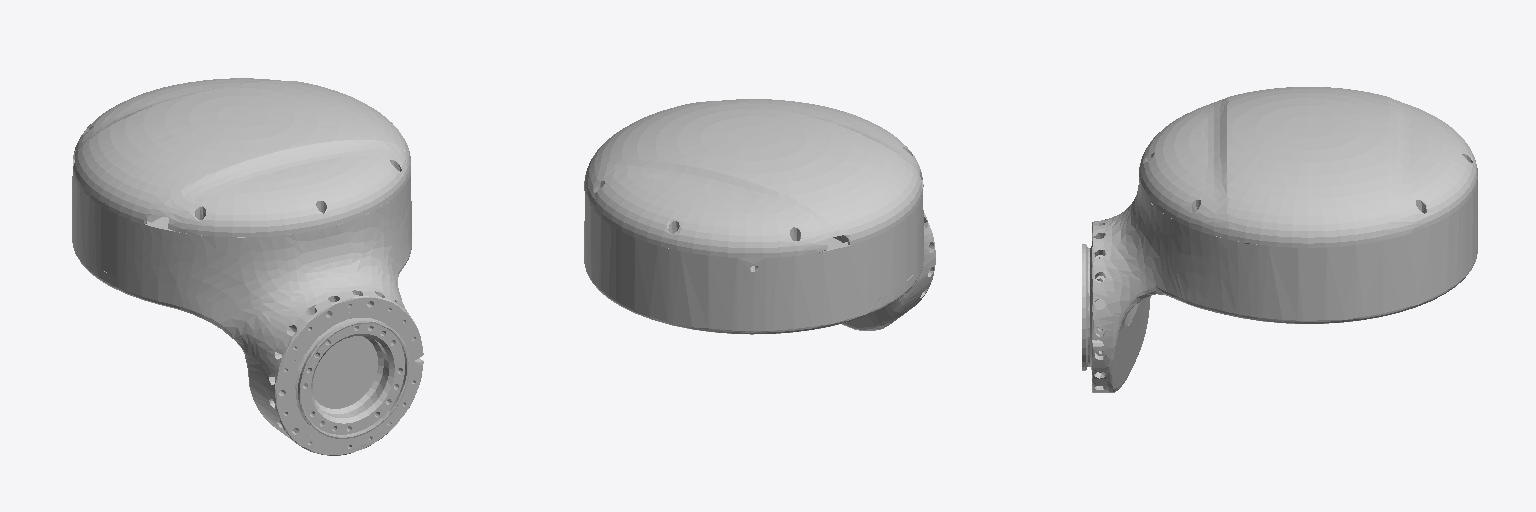
File: left_thigh_yaw_link.obj
3 renders of one model, left to right at view 1: azimuth 30°, elevation 25°; view 2: azimuth 150°, elevation 25°; view 3: azimuth 270°, elevation 25°, orthographic.
Visible parts, largest first — view 1: left_thigh_yaw_link; view 2: left_thigh_yaw_link; view 3: left_thigh_yaw_link.
Part boxes in pixels (bbox=[...]): left_thigh_yaw_link: bbox=[72, 78, 423, 455]; left_thigh_yaw_link: bbox=[584, 99, 935, 334]; left_thigh_yaw_link: bbox=[1082, 87, 1477, 392].
Bounding box in the file's own units: 0.168 × 0.1414 × 0.196.